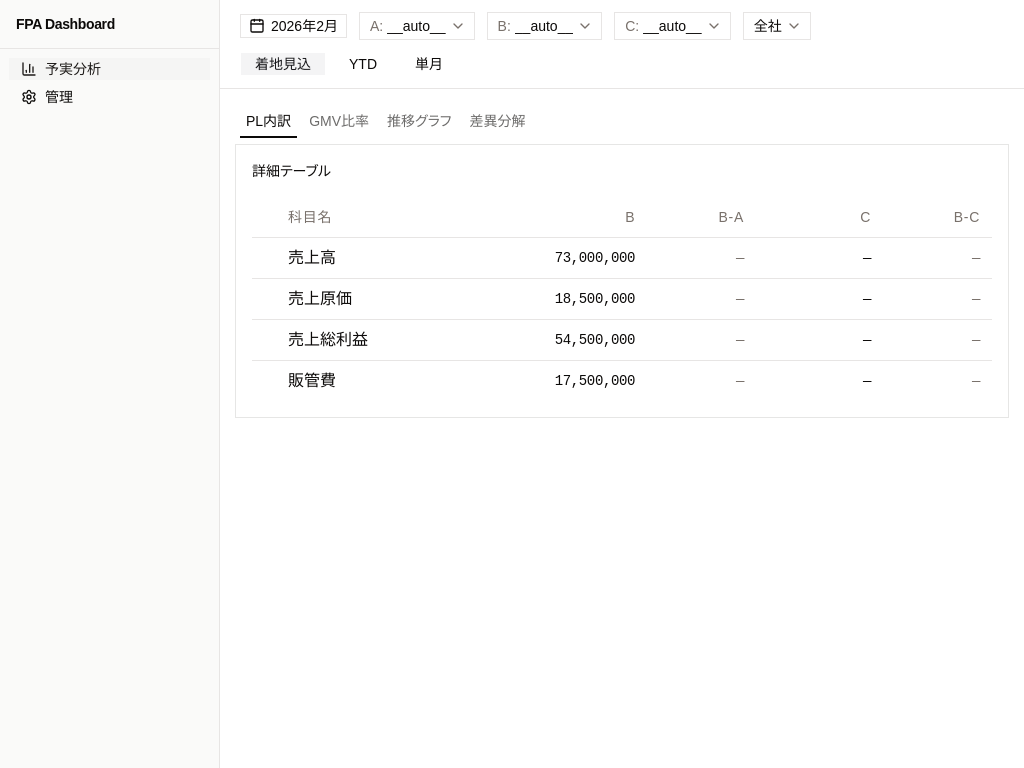
Test: AppShell › switches to admin placeholder when clicking 管理
The width and height of the screenshot is (1024, 768).
Click the button "管理": coordinates (110, 97) [8,85,211,109]
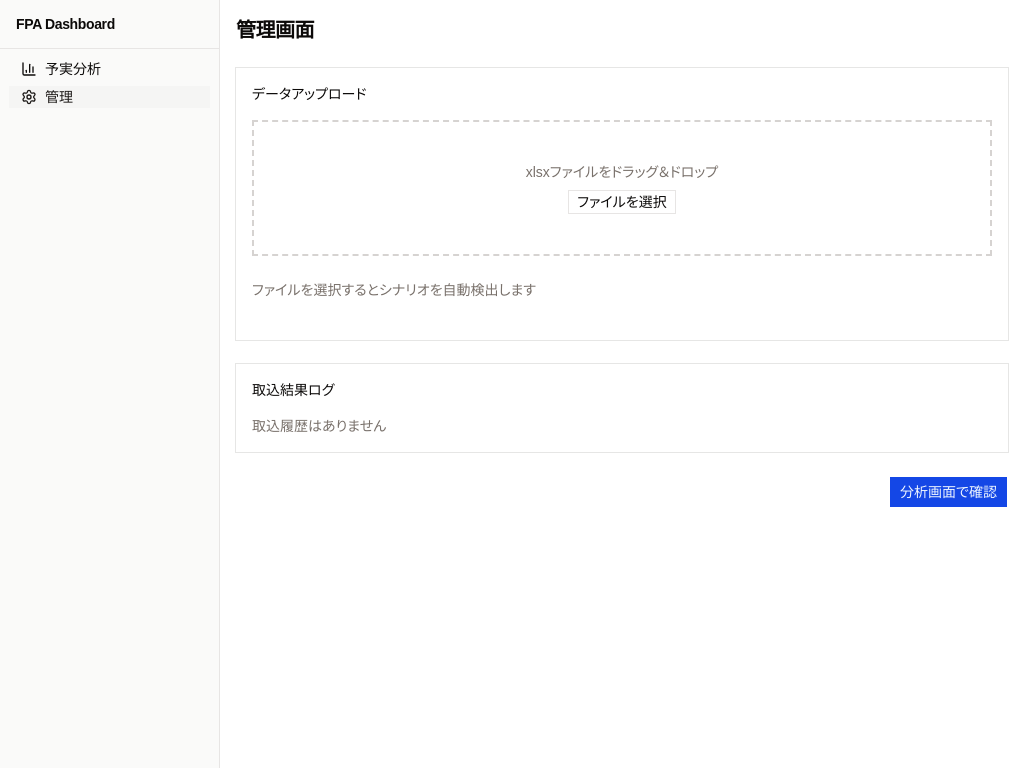
Now the heading "管理画面" is shown, box [236,19,314,41]
